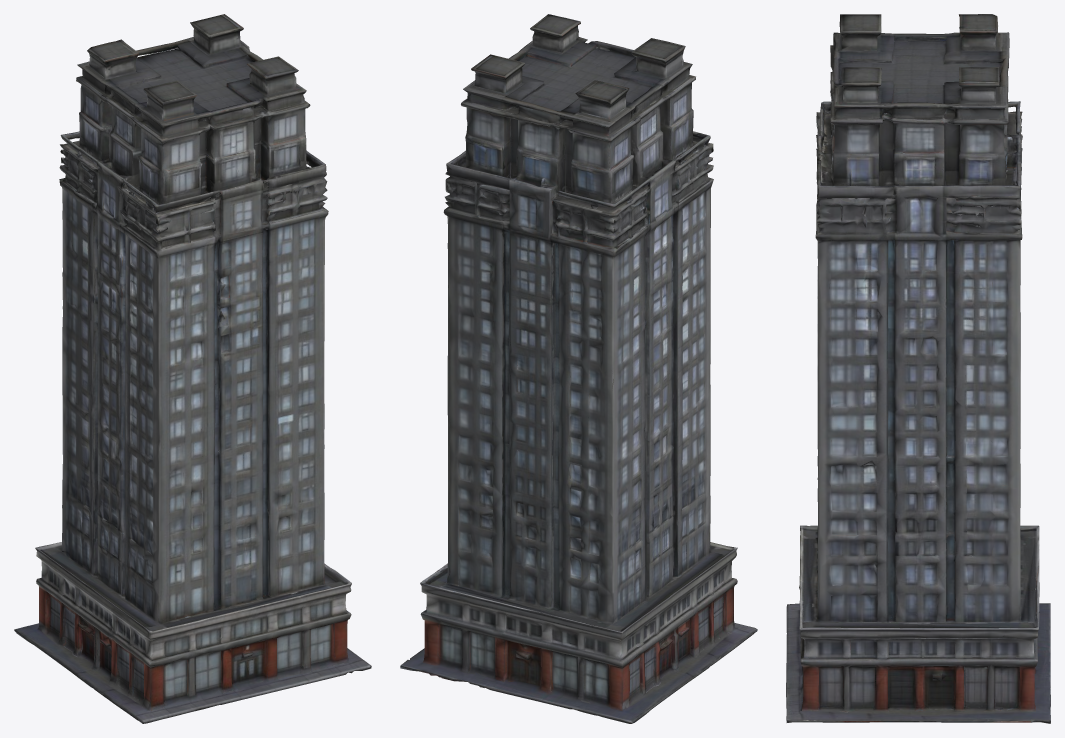
Rendered from bld_office.glb.
3 renders of one model, left to right at view 1: azimuth 30°, elevation 25°; view 2: azimuth 150°, elevation 25°; view 3: azimuth 270°, elevation 25°, orthographic. The views are drawn at different scales.
Visible parts, largest first — view 1: bld_office; view 2: bld_office; view 3: bld_office.
Part boxes in pixels (x1,y1,x2,y2): bld_office: [14, 14, 371, 723]; bld_office: [400, 14, 757, 723]; bld_office: [786, 14, 1050, 723].
Size of the model in its own units: 0.7531 by 1.85 by 0.7161.
Materials: 1 (1 with a texture image).
